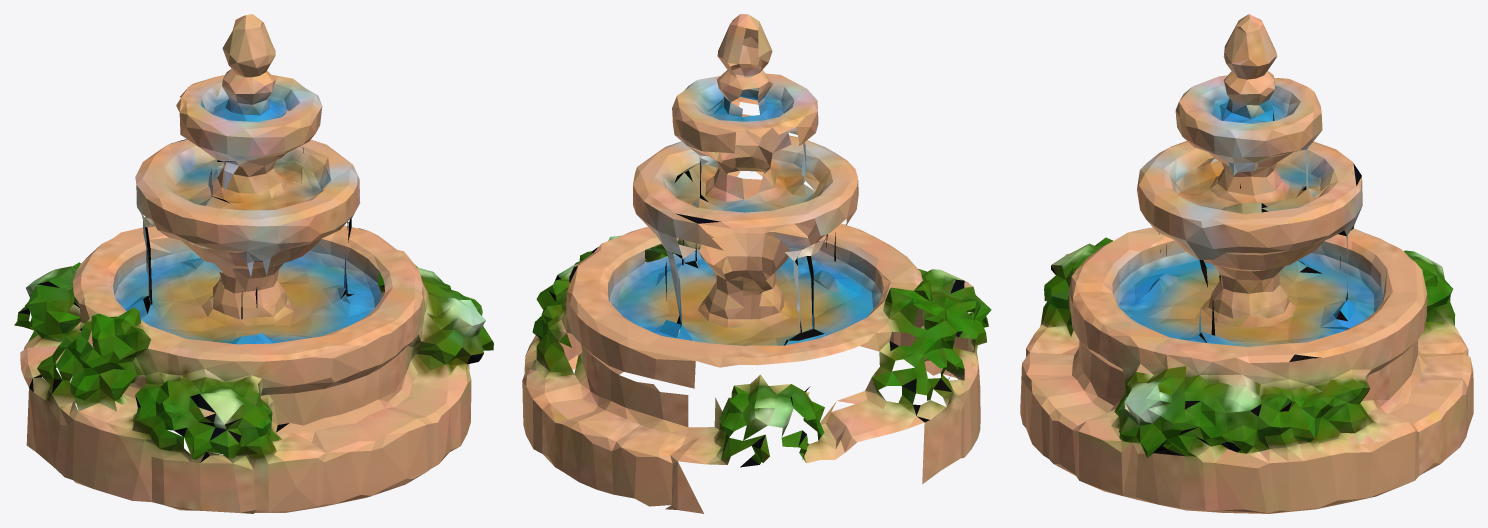
Rendered from M-5_06_fountain.glb.
3 renders of one model, left to right at view 1: azimuth 30°, elevation 25°; view 2: azimuth 150°, elevation 25°; view 3: azimuth 270°, elevation 25°, orthographic.
Parts seen in each view (by area): view 1: loA; view 2: loA; view 3: loA.
Boxes of the visible parts, box(x1,y1,x2,y2) form: loA: box(14, 14, 493, 513); loA: box(522, 14, 991, 513); loA: box(1020, 14, 1473, 513).
Bounding box in the file's own units: 2.7 × 2.61 × 2.63.
1 material, 1 textured.
